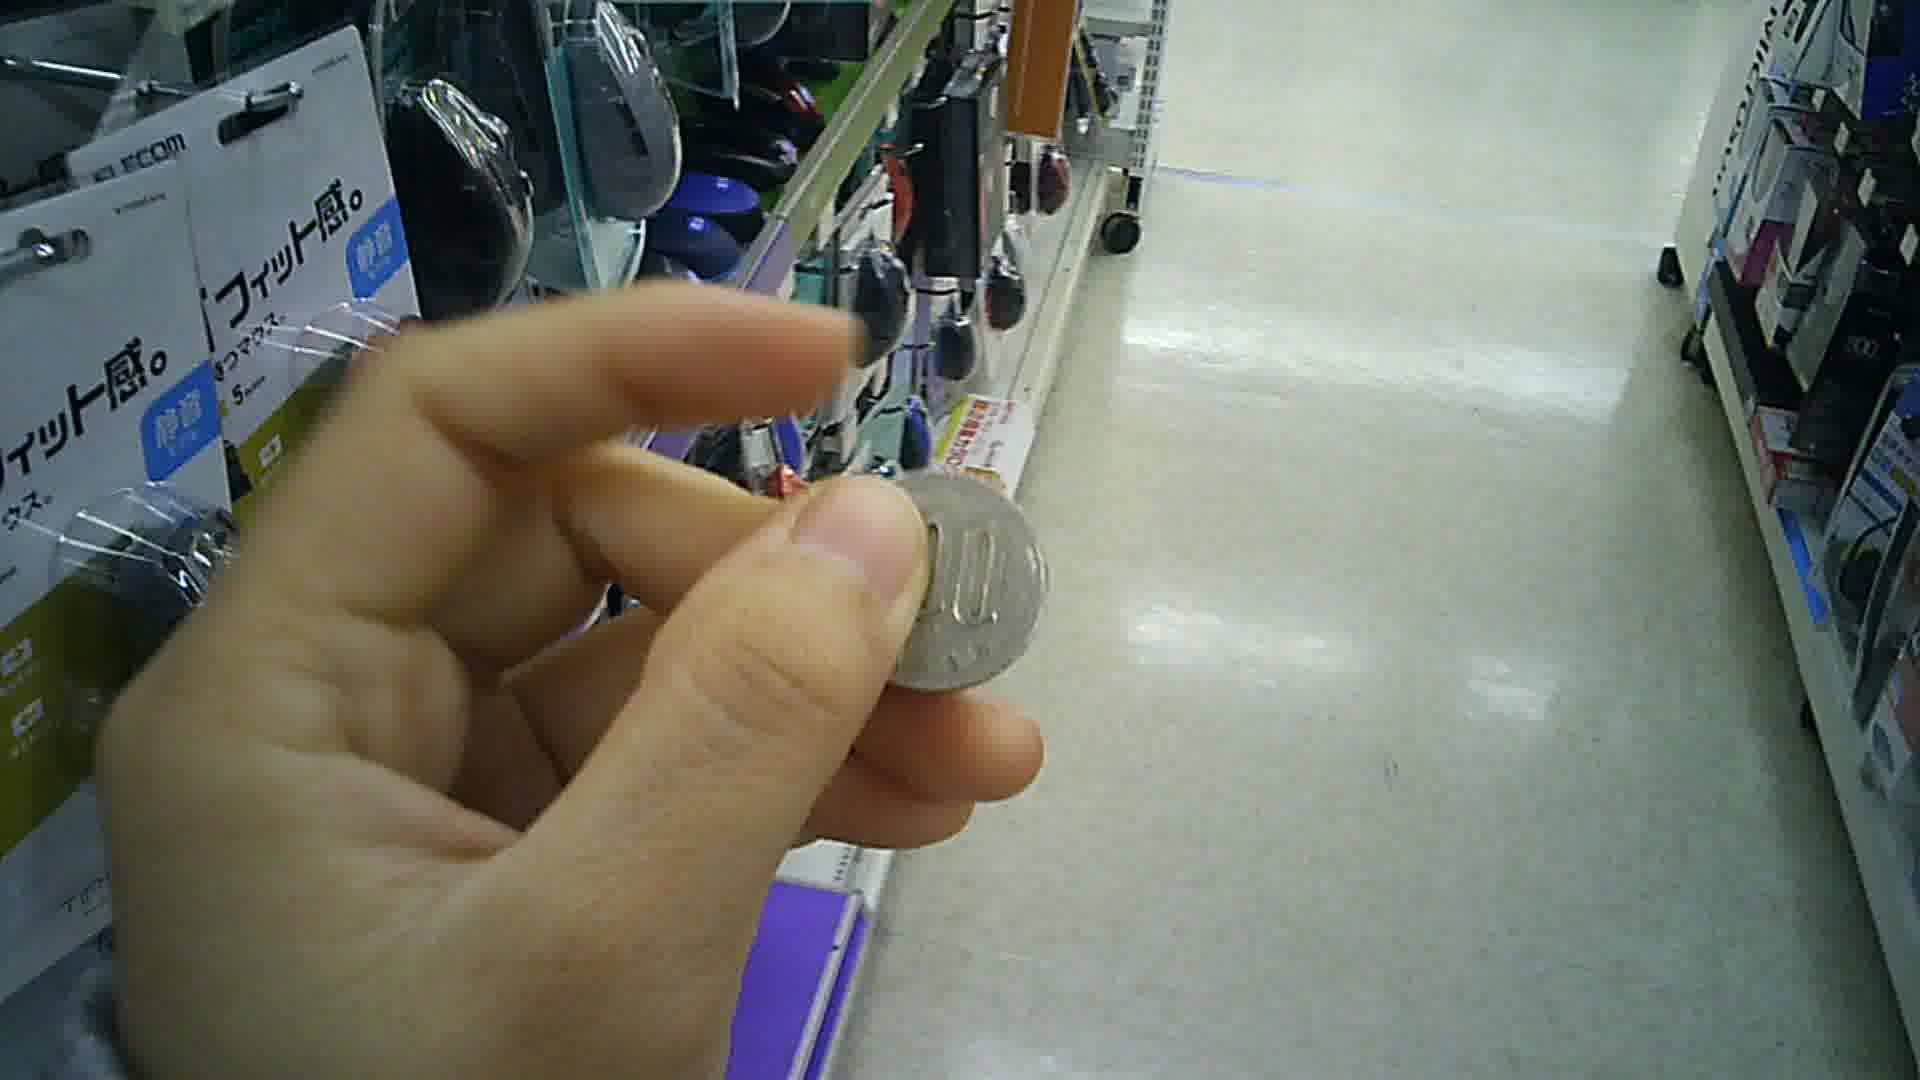100 Yen: (849, 471, 1056, 699)
